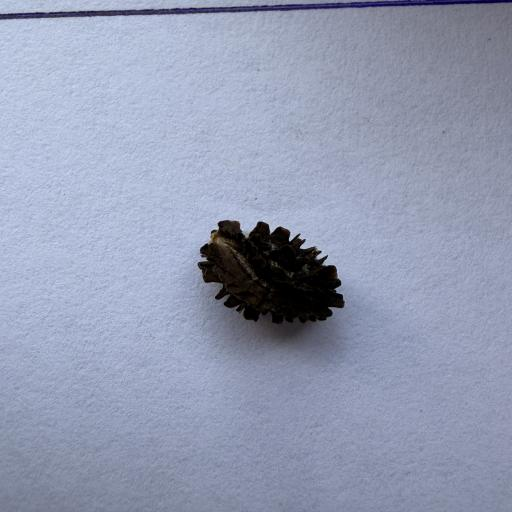papaya_seed: (152, 196, 390, 365)
